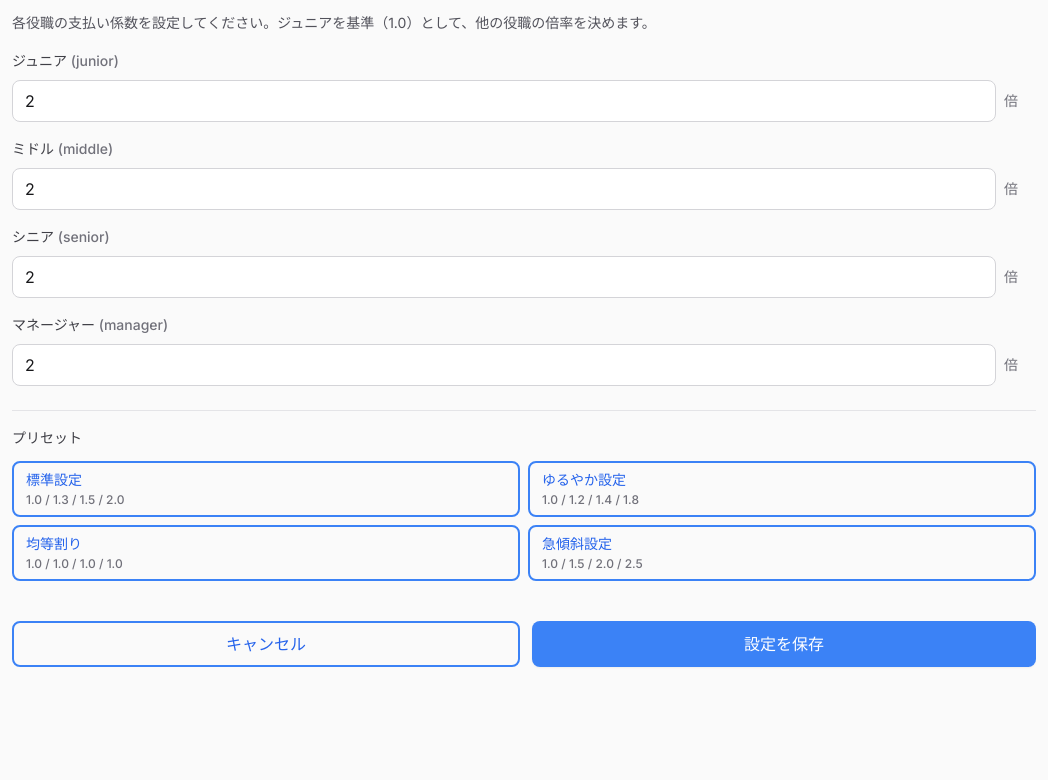
Test: RoleSettingsForm › 標準設定プリセットが動作する
Click the button "標準設定 1.0 / 1.3 / 1.5 / 2.0": (54, 480) [12,461,520,517]
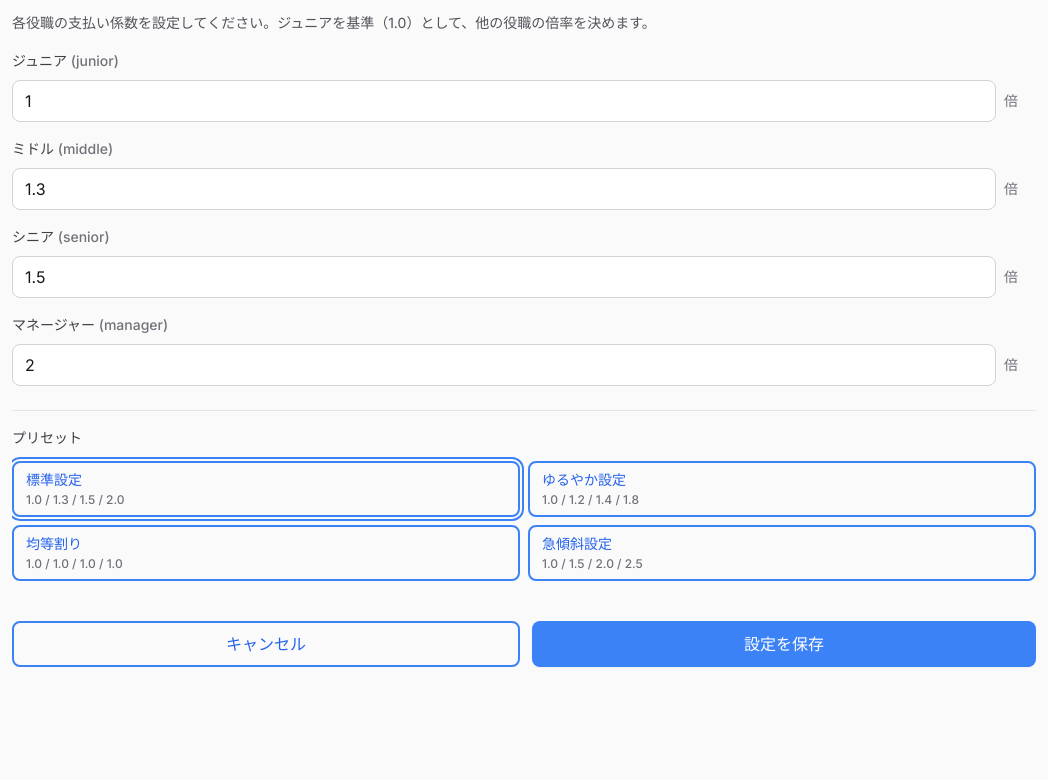
Expected: the number field labelled "ジュニア (junior)" holds "1", [12,80,996,122]
Expected: the number field labelled "ミドル (middle)" holds "1.3", [12,168,996,210]
Expected: the number field labelled "シニア (senior)" holds "1.5", [12,256,996,298]
